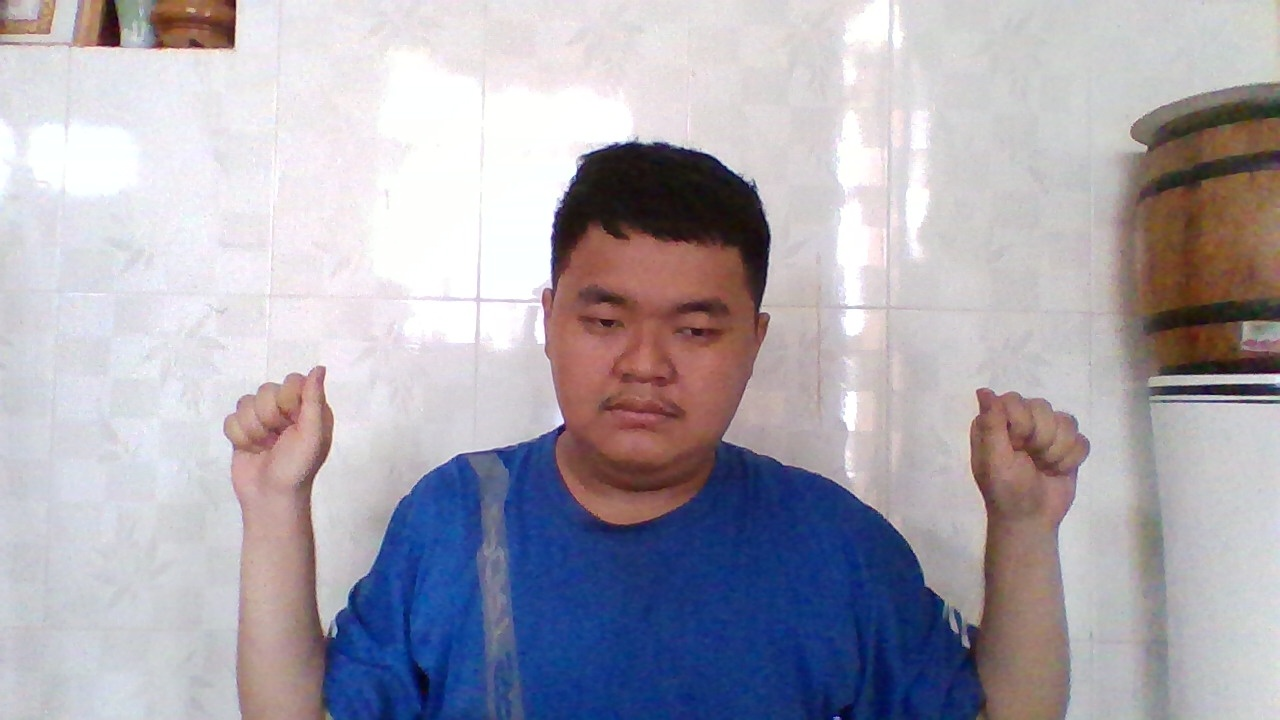A: (966, 377, 1098, 532), (213, 356, 337, 506)
